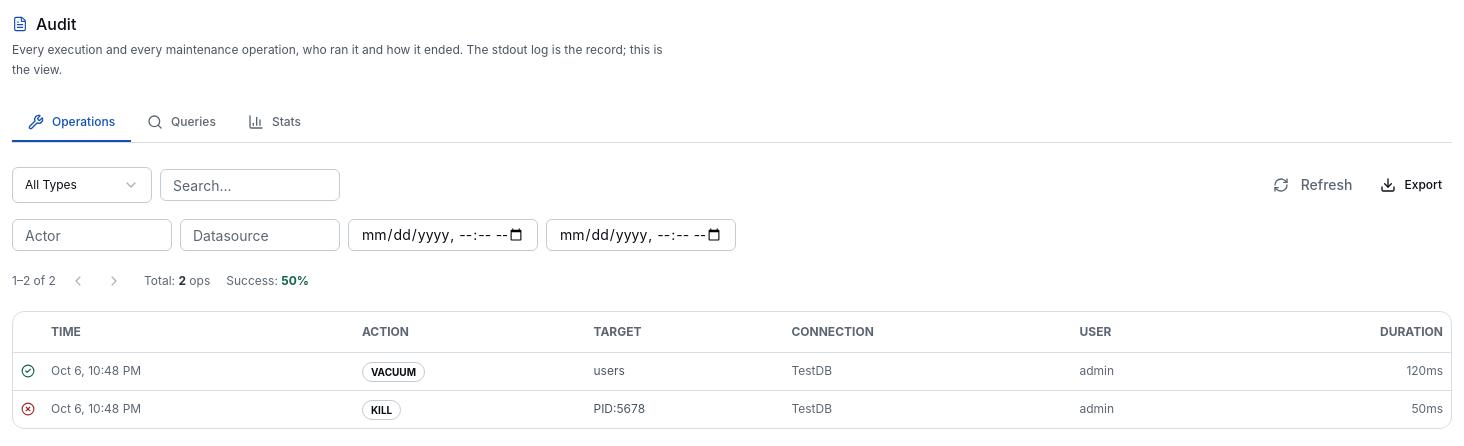
Test case: AuditTab › search filter works in queries tab
Switch to the Queries tab
Click the tab "Queries": [182, 122] box [131,103,232,142]
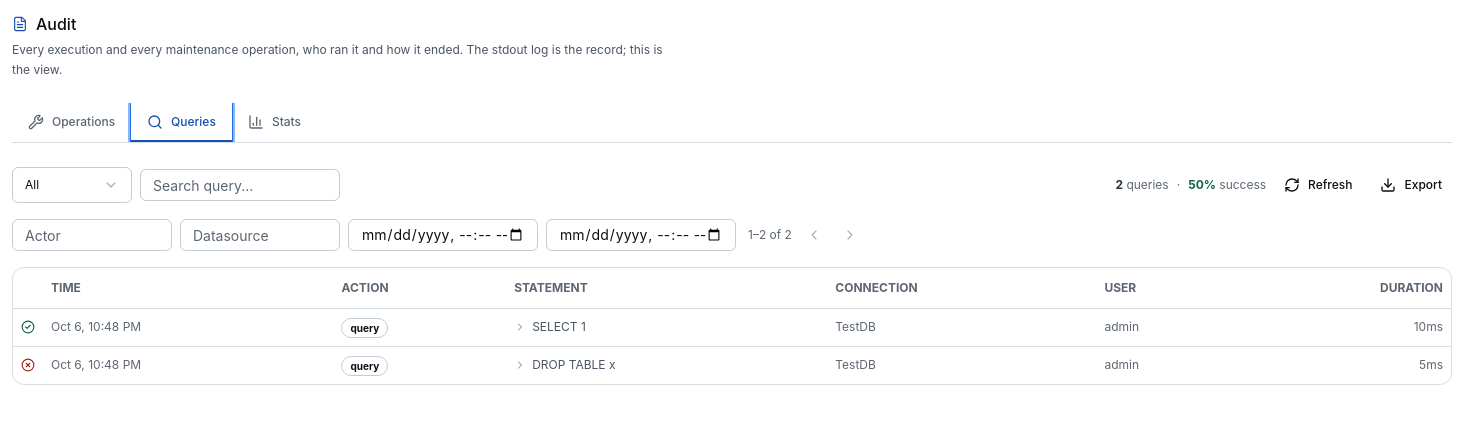
Expected: the text "SELECT 1" is shown, [532,319,586,335]
Type a search query — only matching history items remain
In the field with placeholder "Search query...": [240, 185] box [140,169,340,201], type "select"
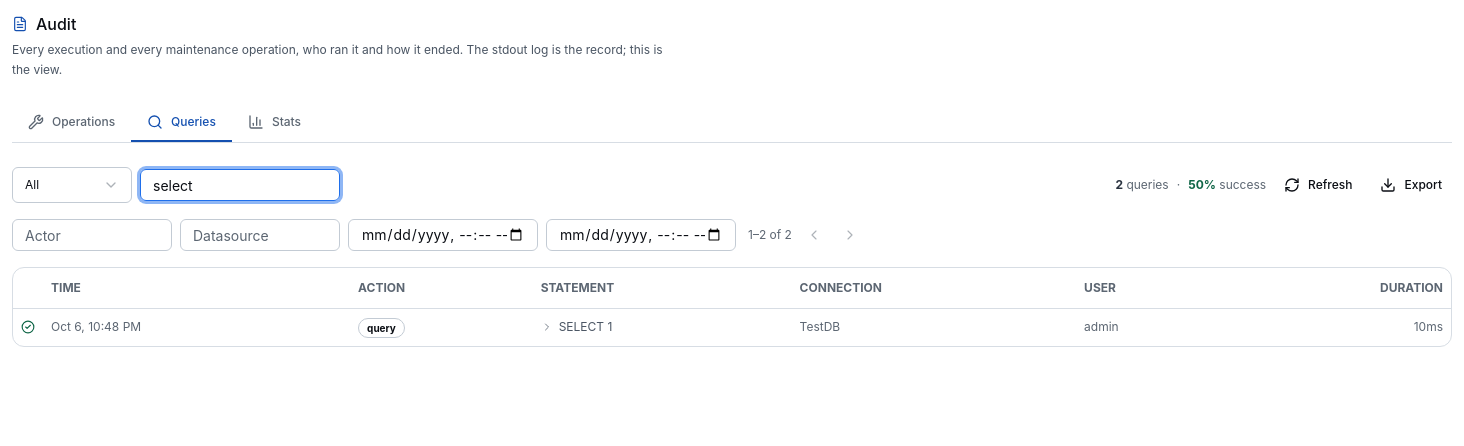
Expected: the text "SELECT 1" is shown, [559,319,612,335]
Expected: the button "DROP TABLE x" is gone
